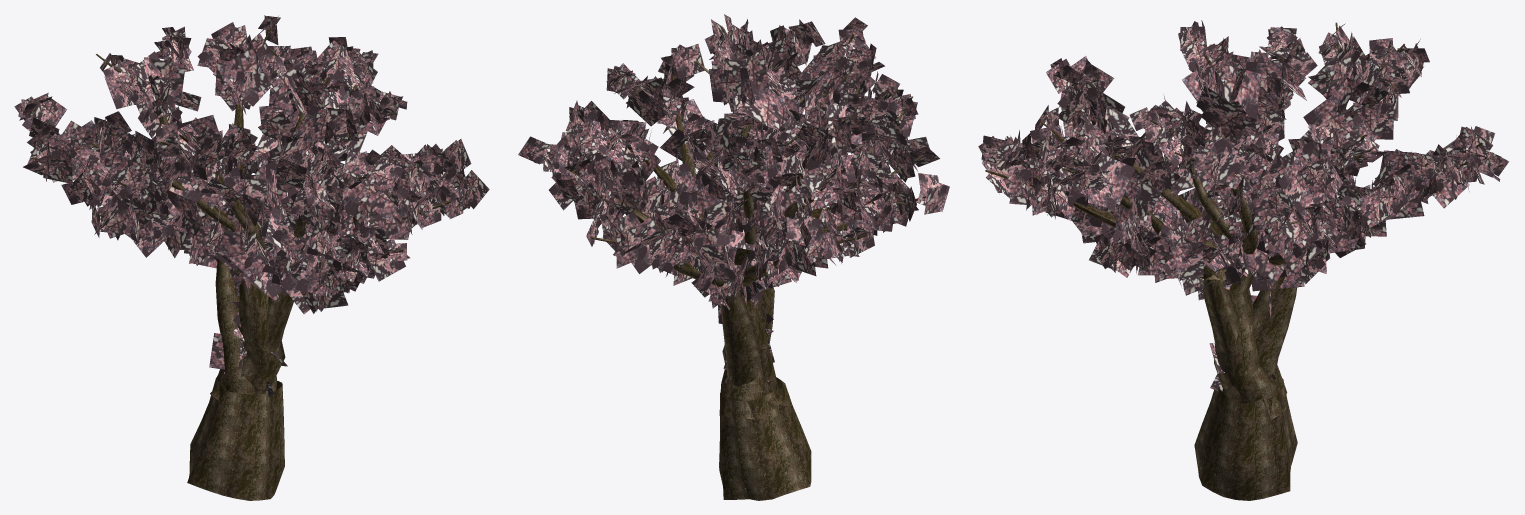
Rendered from blossom_2x_3.glb.
The picture shows the model from 3 angles, left to right: view 1: azimuth 30°, elevation 25°; view 2: azimuth 150°, elevation 25°; view 3: azimuth 270°, elevation 25°; orthographic projection. The views are drawn at different scales.
Parts seen in each view (by area): view 1: blossom; view 2: blossom; view 3: blossom.
Part boxes in pixels (x1,y1,x2,y2): blossom: (14,15,489,500); blossom: (518,14,949,500); blossom: (978,20,1508,500).
Size of the model in its own units: 25.87 by 28.73 by 32.46.
2 materials, 2 textured.
